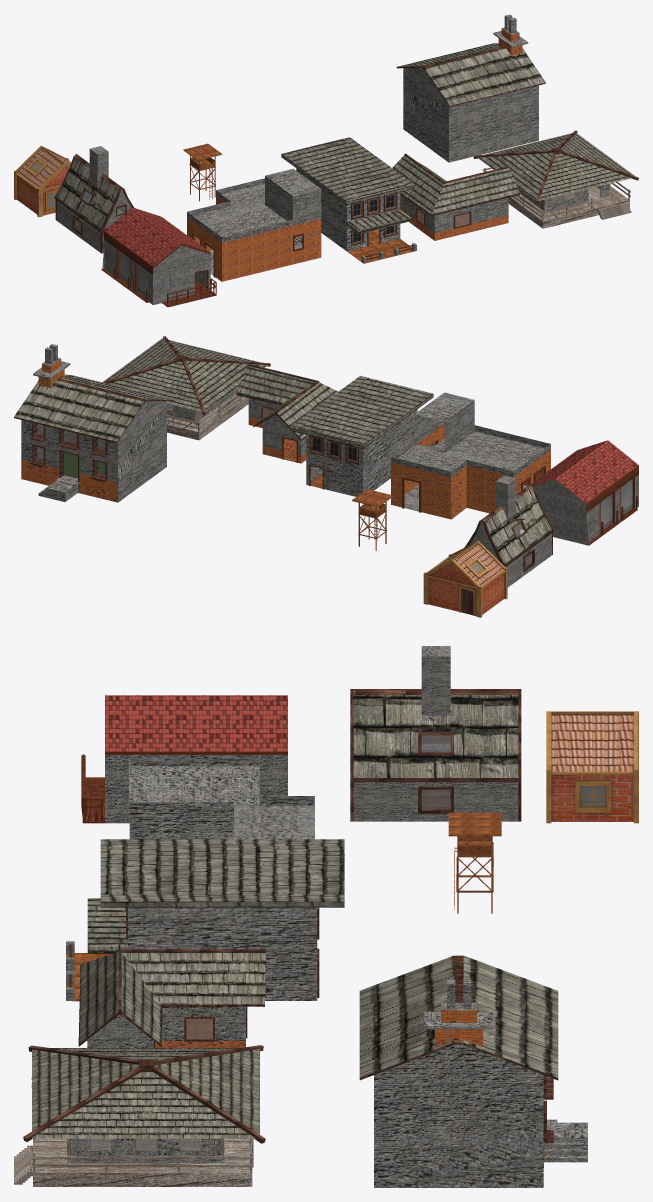
Rendered from Bangunan4.fbx.
3 renders of one model, top to bottom at view 1: azimuth 30°, elevation 25°; view 2: azimuth 150°, elevation 25°; view 3: azimuth 270°, elevation 25°, orthographic. The views are drawn at different scales.
Visible parts, largest first — view 1: Cube.008, Cube.004, Cube.001, Cube.010, Cube.005, Cube.006, Cube, Cube.003, Cube.007; view 2: Cube.008, Cube.004, Cube.001, Cube.010, Cube.005, Cube.006, Cube, Cube.003, Cube.007; view 3: Cube.008, Cube.010, Cube.001, Cube, Cube.006, Cube.005, Cube.004, Cube.003, Cube.007.
Part boxes in pixels (x1,y1,x2,y2): Cube.008: (396, 14, 545, 162); Cube.004: (187, 168, 321, 281); Cube.001: (281, 137, 416, 263); Cube.010: (473, 130, 638, 228); Cube.005: (101, 207, 216, 307); Cube.006: (392, 153, 519, 240); Cube: (54, 146, 134, 253); Cube.003: (14, 145, 71, 217); Cube.007: (183, 143, 222, 201); Cube.008: (14, 344, 173, 502); Cube.004: (391, 392, 550, 519); Cube.001: (290, 375, 435, 496); Cube.010: (102, 336, 270, 440); Cube.005: (531, 440, 638, 545); Cube.006: (236, 364, 338, 463); Cube: (464, 475, 553, 587); Cube.003: (423, 541, 507, 617); Cube.007: (352, 489, 393, 550); Cube.008: (359, 955, 587, 1187); Cube.010: (14, 1045, 265, 1186); Cube.001: (66, 839, 344, 1001); Cube: (350, 646, 521, 821); Cube.006: (78, 949, 265, 1047); Cube.005: (81, 695, 287, 823); Cube.004: (129, 756, 314, 839); Cube.003: (546, 711, 638, 823); Cube.007: (448, 812, 501, 913).
Size of the model in its own units: 20469 by 4510 by 12671.
18 materials, 16 textured.
